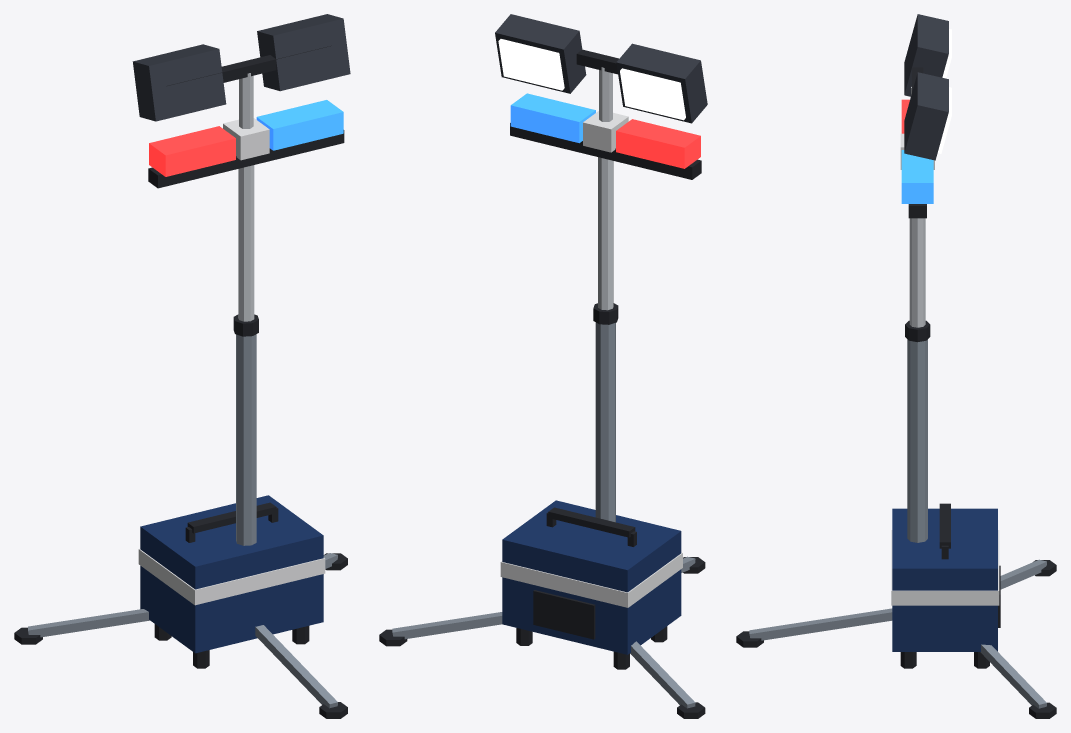
File: police_light_stand.glb
3 views of the same model, side by side, from view 1: azimuth 30°, elevation 25°; view 2: azimuth 150°, elevation 25°; view 3: azimuth 270°, elevation 25° (orthographic). The views are drawn at different scales.
Parts seen in each view (by area): view 1: Stand; view 2: Stand; view 3: Stand.
Boxes of the visible parts, <box> form: Stand: <box>14,14,350,718</box>; Stand: <box>379,14,707,718</box>; Stand: <box>736,14,1056,718</box>.
Bounding box in the file's own units: 1.58 × 2.8 × 1.4.
